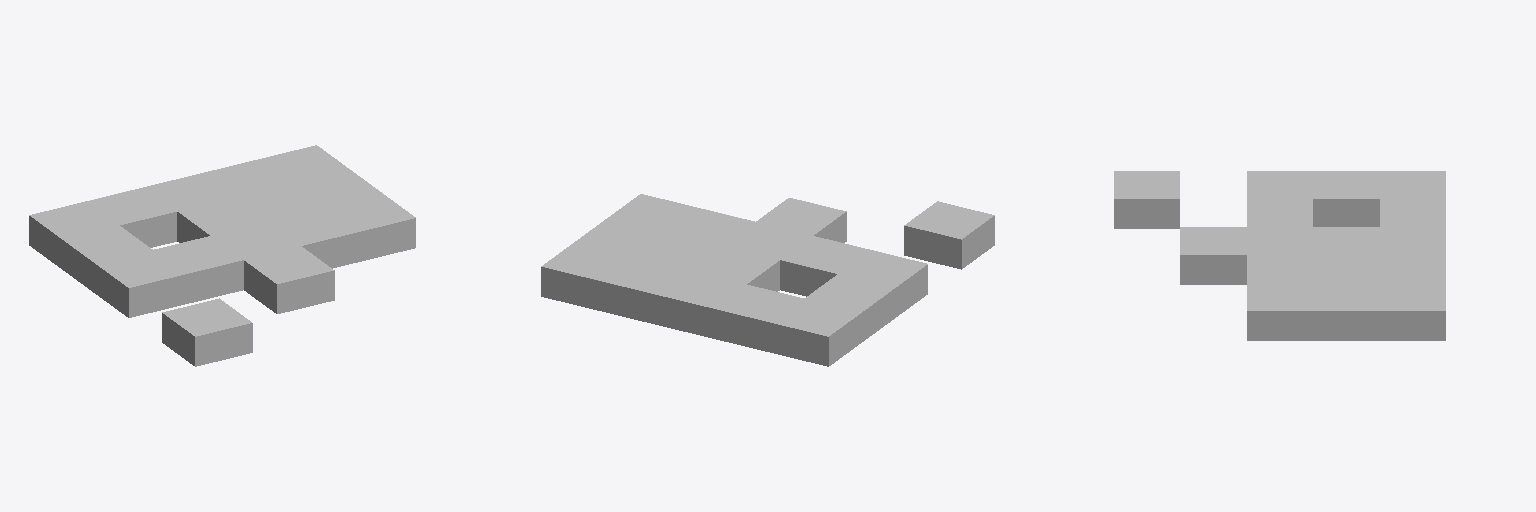
The model's file is 39f_block.obj.
The picture shows the model from 3 angles: view 1: azimuth 30°, elevation 25°; view 2: azimuth 150°, elevation 25°; view 3: azimuth 270°, elevation 25°; orthographic projection.
Visible parts, largest first — view 1: foil.block.0.0_block.3860, foil.block.2.1_block.3867, foil.block.0.2_block.3861, foil.block.1.2_block.3864, foil.block.4.2_block.3874, foil.block.3.2_block.3871, foil.block.1.4_block.3866, foil.block.0.3_block.3862, foil.block.0.4_block.3863, foil.block.2.3_block.3869, foil.block.4.3_block.3875, foil.block.2.4_block.3870 (+4 smaller); view 2: foil.block.0.0_block.3860, foil.block.0.4_block.3863, foil.block.4.4_block.3876, foil.block.2.4_block.3870, foil.block.1.4_block.3866, foil.block.3.4_block.3873, foil.block.1.2_block.3864, foil.block.0.2_block.3861, foil.block.0.3_block.3862, foil.block.2.1_block.3867, foil.block.2.3_block.3869, foil.block.3.2_block.3871 (+4 smaller); view 3: foil.block.2.1_block.3867, foil.block.4.3_block.3875, foil.block.0.0_block.3860, foil.block.4.2_block.3874, foil.block.4.4_block.3876, foil.block.0.3_block.3862, foil.block.2.3_block.3869, foil.block.3.3_block.3872, foil.block.0.2_block.3861, foil.block.0.4_block.3863, foil.block.1.2_block.3864, foil.block.1.4_block.3866 (+4 smaller).
Part boxes in pixels (left/top/right/bottom): foil.block.0.0_block.3860: left=162, top=298, right=252, bottom=366; foil.block.2.1_block.3867: left=244, top=246, right=334, bottom=313; foil.block.0.2_block.3861: left=96, top=250, right=185, bottom=317; foil.block.1.2_block.3864: left=154, top=236, right=243, bottom=303; foil.block.4.2_block.3874: left=327, top=194, right=415, bottom=261; foil.block.3.2_block.3871: left=269, top=208, right=358, bottom=268; foil.block.1.4_block.3866: left=87, top=187, right=176, bottom=247; foil.block.0.3_block.3862: left=62, top=226, right=152, bottom=293; foil.block.0.4_block.3863: left=29, top=201, right=119, bottom=268; foil.block.2.3_block.3869: left=177, top=198, right=267, bottom=242; foil.block.4.3_block.3875: left=293, top=169, right=382, bottom=207; foil.block.2.4_block.3870: left=145, top=173, right=234, bottom=210; foil.block.0.0_block.3860: left=904, top=201, right=994, bottom=269; foil.block.0.4_block.3863: left=771, top=298, right=861, bottom=366; foil.block.4.4_block.3876: left=541, top=242, right=631, bottom=310; foil.block.2.4_block.3870: left=656, top=270, right=746, bottom=338; foil.block.1.4_block.3866: left=714, top=285, right=803, bottom=352; foil.block.3.4_block.3873: left=599, top=257, right=688, bottom=324; foil.block.1.2_block.3864: left=780, top=236, right=869, bottom=296; foil.block.0.2_block.3861: left=839, top=250, right=927, bottom=317; foil.block.0.3_block.3862: left=805, top=274, right=894, bottom=341; foil.block.2.1_block.3867: left=756, top=198, right=846, bottom=242; foil.block.2.3_block.3869: left=690, top=246, right=779, bottom=291; foil.block.3.2_block.3871: left=666, top=208, right=754, bottom=245; foil.block.2.1_block.3867: left=1180, top=227, right=1246, bottom=284; foil.block.4.3_block.3875: left=1313, top=283, right=1379, bottom=340; foil.block.0.0_block.3860: left=1114, top=171, right=1179, bottom=228; foil.block.4.2_block.3874: left=1247, top=283, right=1312, bottom=340; foil.block.4.4_block.3876: left=1380, top=283, right=1445, bottom=340; foil.block.0.3_block.3862: left=1313, top=171, right=1379, bottom=226; foil.block.2.3_block.3869: left=1313, top=227, right=1379, bottom=254; foil.block.3.3_block.3872: left=1313, top=255, right=1379, bottom=282; foil.block.0.2_block.3861: left=1247, top=171, right=1312, bottom=198; foil.block.0.4_block.3863: left=1380, top=171, right=1445, bottom=198; foil.block.1.2_block.3864: left=1247, top=199, right=1312, bottom=226; foil.block.1.4_block.3866: left=1380, top=199, right=1445, bottom=226.
Bounding box in the file's own units: 10 × 1 × 10.